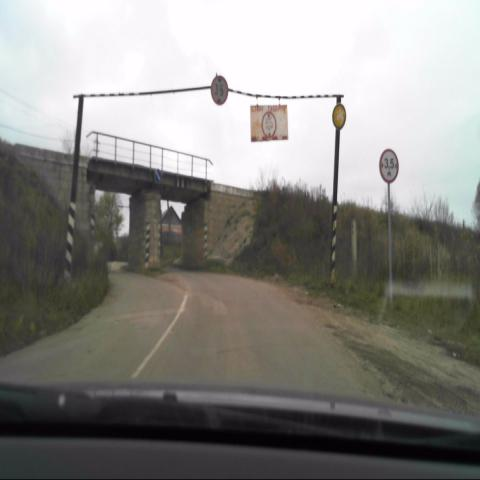3_14: (378, 148, 399, 184)
